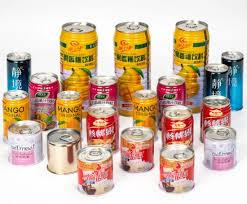can: (3, 17, 245, 202)
